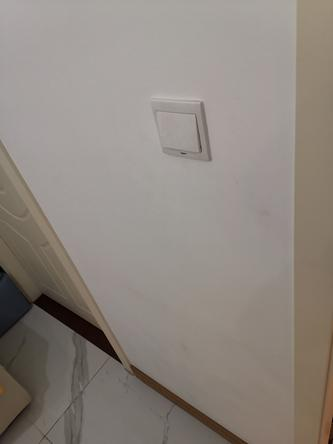switch: (155, 108, 203, 158)
